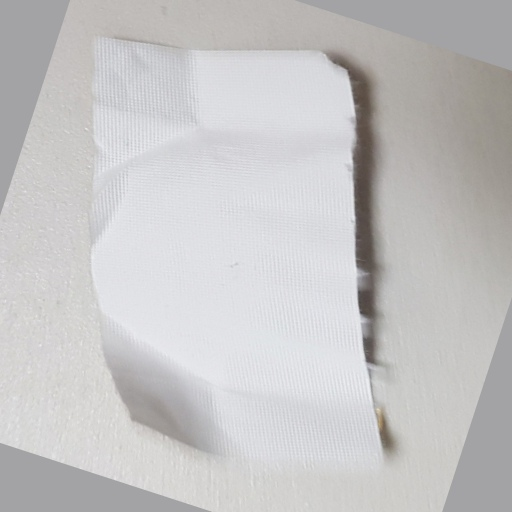Paper_3: (85, 19, 416, 482)
